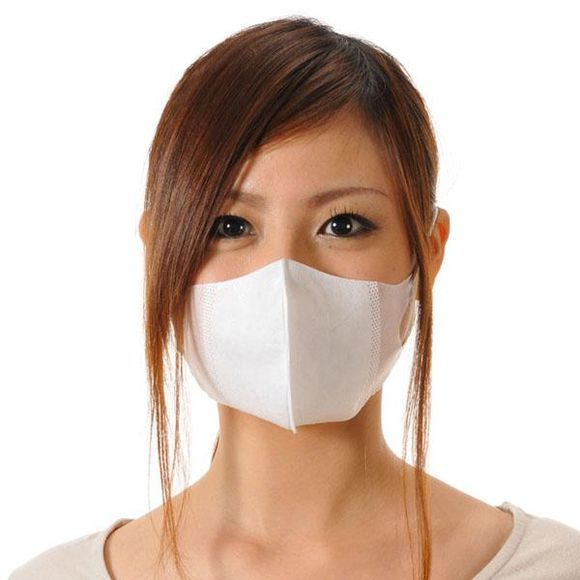face_mask: (180, 110, 408, 421)
